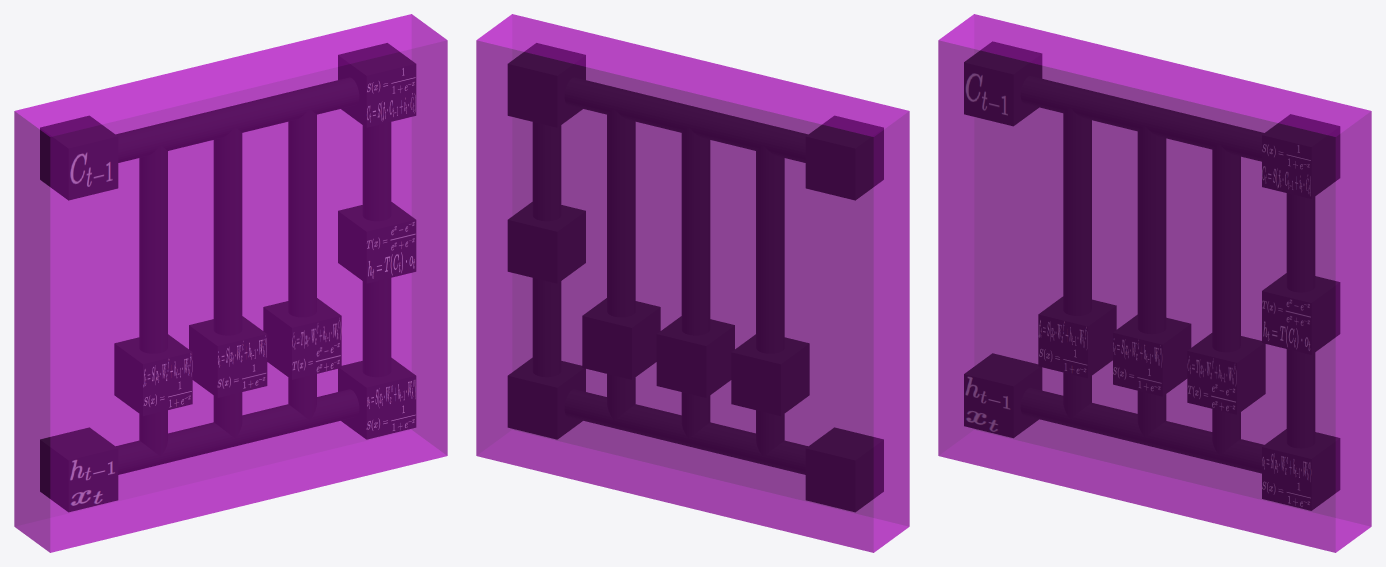
Rendered from LSTM.glb.
The picture shows the model from 3 angles, left to right: view 1: azimuth 30°, elevation 25°; view 2: azimuth 150°, elevation 25°; view 3: azimuth 330°, elevation 25°; orthographic projection.
Parts seen in each view (by area): view 1: Cube.001; view 2: Cube.001; view 3: Cube.001.
Part boxes in pixels (left/top/right/bottom): Cube.001: left=14, top=14, right=447, bottom=552; Cube.001: left=476, top=14, right=909, bottom=552; Cube.001: left=938, top=14, right=1371, bottom=552.
Bounding box in the file's own units: 16 × 16 × 2.5.
